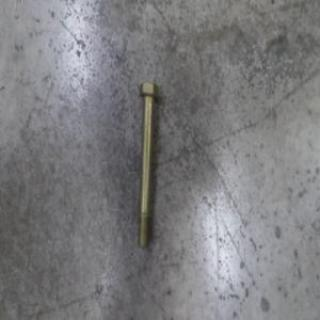Bolttrack_idkeyframe: (136, 78, 160, 254)
